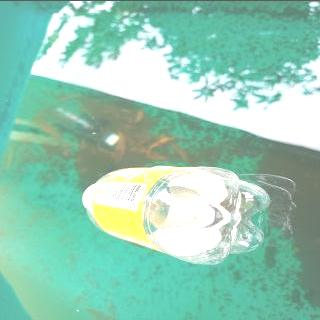bottle: (81, 163, 273, 266)
